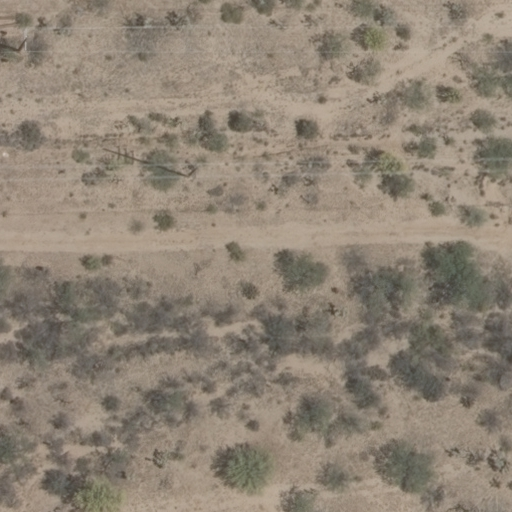DT: (12, 23, 37, 60), (177, 158, 206, 182)
